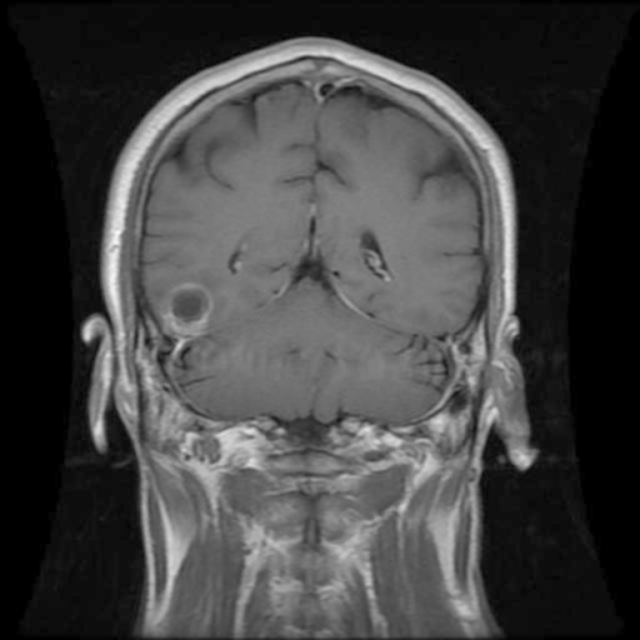pituitary tumor: (166, 290, 209, 338)
